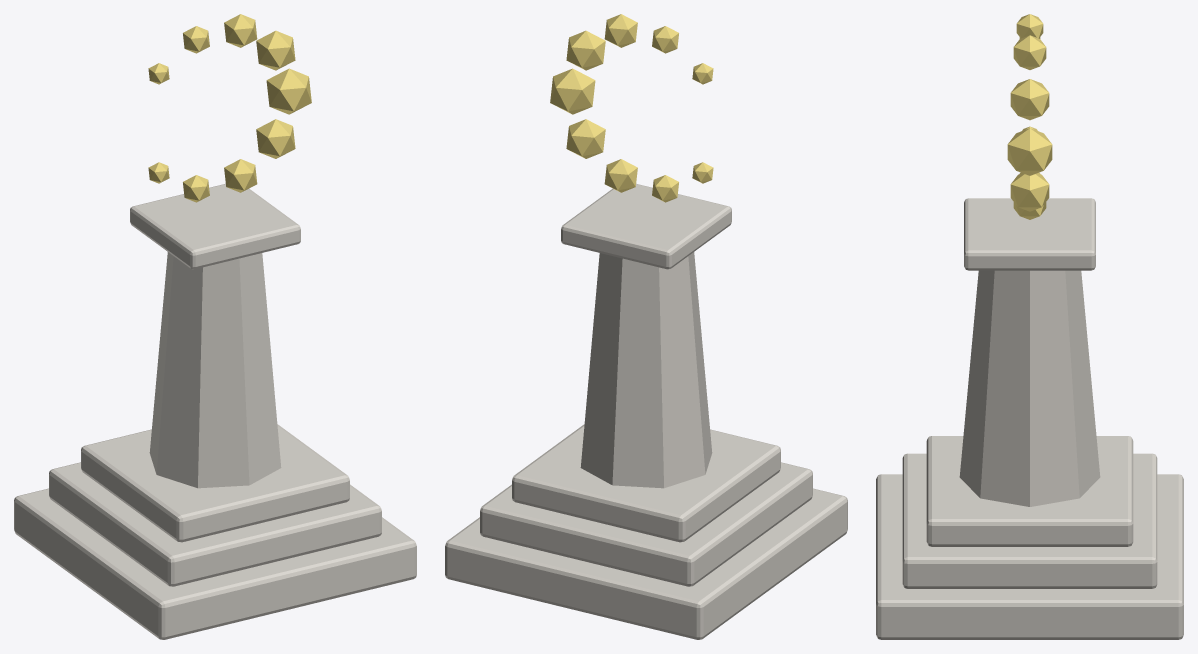
File: MachuPicchu_Dama.fbx
3 renders of one model, left to right at view 1: azimuth 30°, elevation 25°; view 2: azimuth 150°, elevation 25°; view 3: azimuth 270°, elevation 25°, orthographic. The views are drawn at different scales.
Parts seen in each view (by area): view 1: MachuPicchu_Dama; view 2: MachuPicchu_Dama; view 3: MachuPicchu_Dama.
Part boxes in pixels (box(x1,y1,x2,y2)): MachuPicchu_Dama: box(14, 14, 416, 639); MachuPicchu_Dama: box(445, 14, 847, 639); MachuPicchu_Dama: box(876, 14, 1183, 639).
Size of the model in its own units: 0.7 by 1.39 by 0.7.
